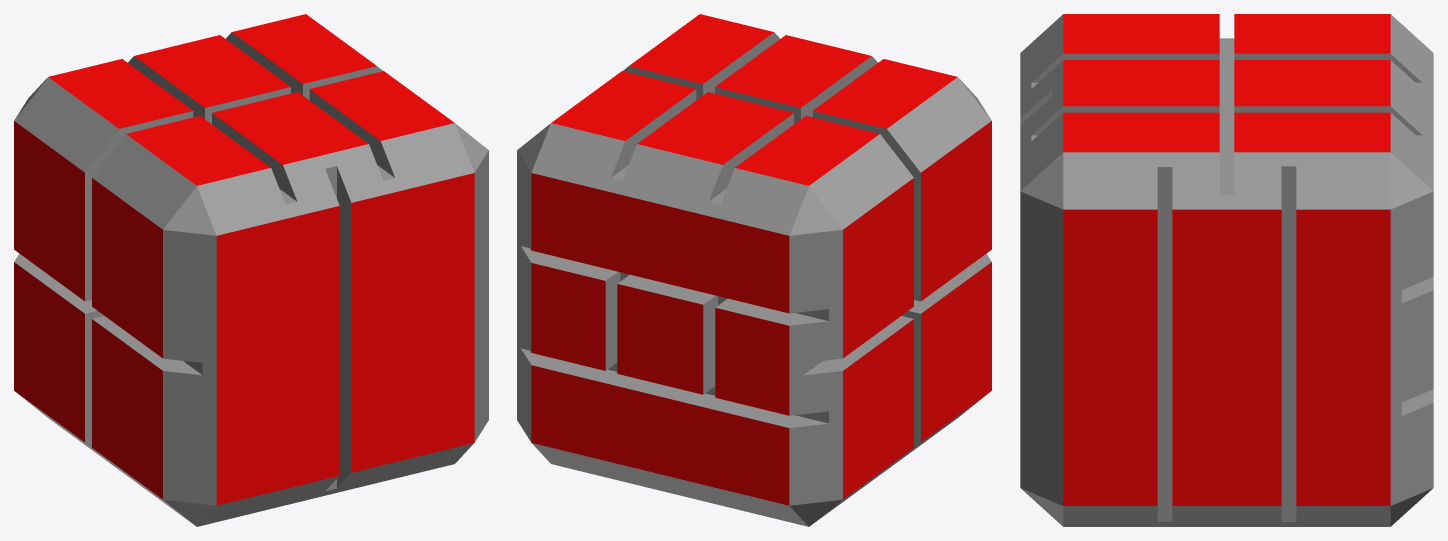
File: Dice.fbx
3 views of the same model, side by side, from view 1: azimuth 30°, elevation 25°; view 2: azimuth 150°, elevation 25°; view 3: azimuth 270°, elevation 25° (orthographic). The views are drawn at different scales.
Parts seen in each view (by area): view 1: Dice; view 2: Dice; view 3: Dice.
Boxes of the visible parts, x1,y1,x2,y2 form: Dice: (14,14,488,526); Dice: (517,14,991,526); Dice: (1020,14,1433,526).
Size of the model in its own units: 200 by 200 by 200.
